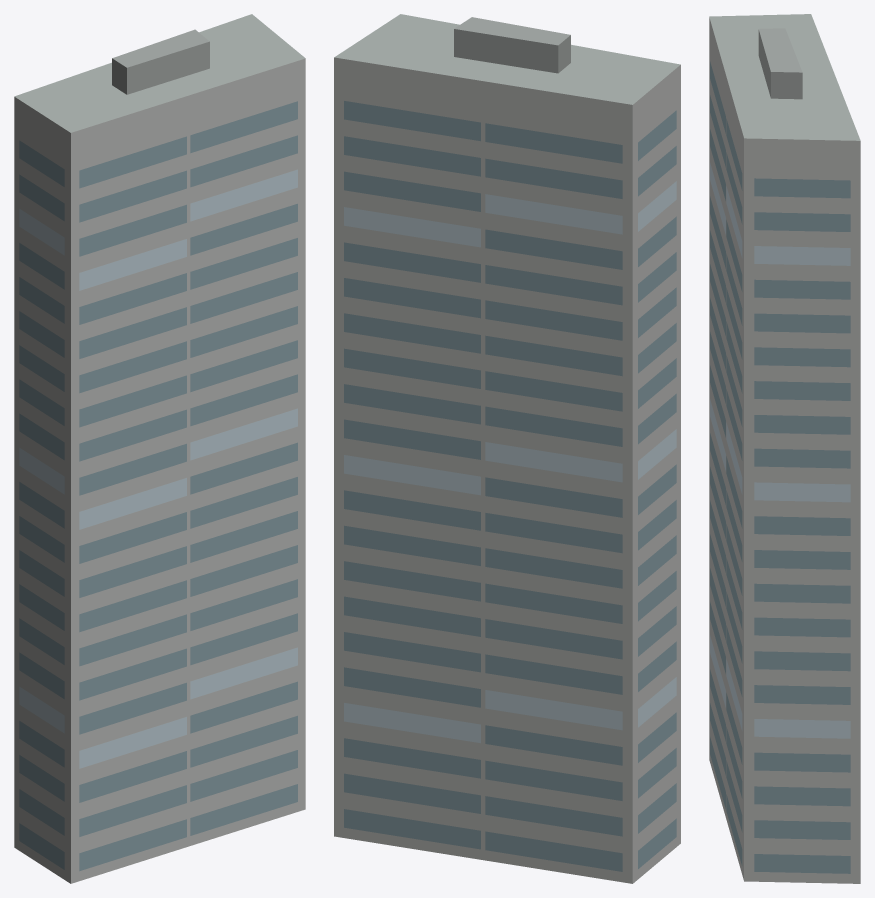
The model's file is fallback-jamsil-ricenz-230.glb.
3 renders of one model, left to right at view 1: azimuth 30°, elevation 25°; view 2: azimuth 150°, elevation 25°; view 3: azimuth 270°, elevation 25°, orthographic. The views are drawn at different scales.
Parts seen in each view (by area): view 1: fallback-jamsil-ricenz-230; view 2: fallback-jamsil-ricenz-230; view 3: fallback-jamsil-ricenz-230.
Part boxes in pixels (x1,y1,x2,y2): fallback-jamsil-ricenz-230: [14, 14, 305, 883]; fallback-jamsil-ricenz-230: [334, 14, 680, 883]; fallback-jamsil-ricenz-230: [709, 14, 860, 883].
Bounding box in the file's own units: 24.4 × 69 × 12.31.
